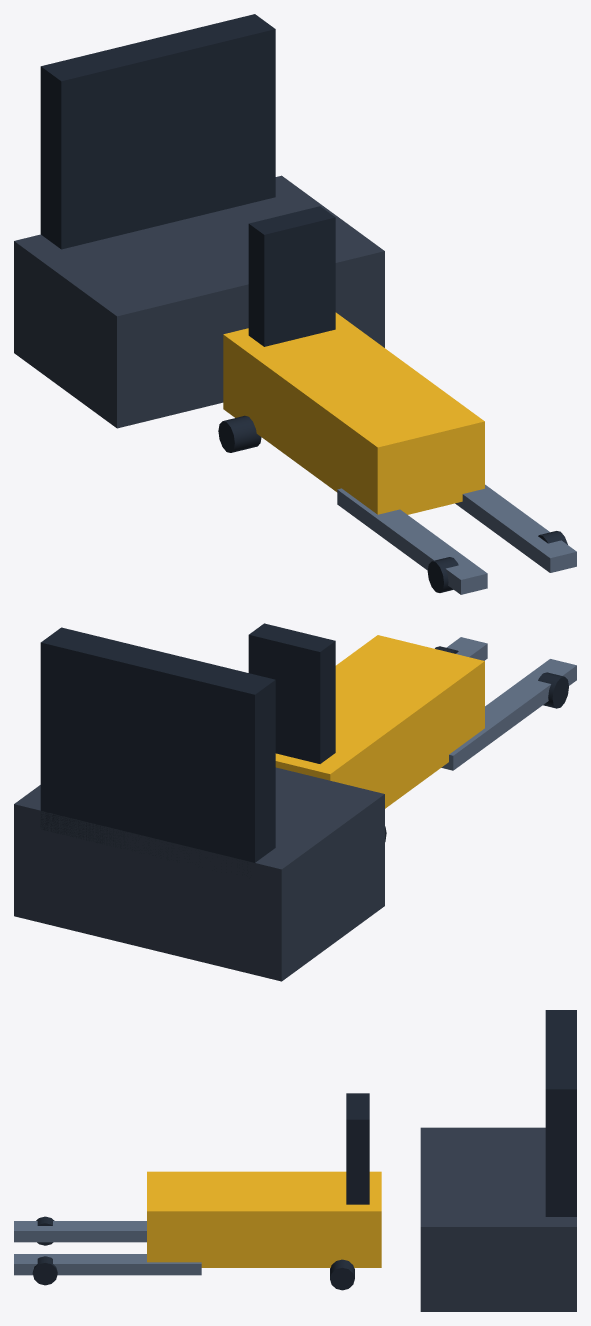
Rendered from yard-pallet-charger-body-authored-atlas.glb.
3 renders of one model, top to bottom at view 1: azimuth 30°, elevation 25°; view 2: azimuth 150°, elevation 25°; view 3: azimuth 270°, elevation 25°, orthographic. The views are drawn at different scales.
Parts seen in each view (by area): view 1: Authored surface.048; view 2: Authored surface.048; view 3: Authored surface.048.
Boxes of the visible parts, box(x1,y1,x2,y2) form: Authored surface.048: box(14, 14, 576, 594); Authored surface.048: box(14, 623, 576, 981); Authored surface.048: box(14, 1010, 576, 1311).
Size of the model in its own units: 1.5 by 1.5 by 3.6.
1 material, 1 textured.
